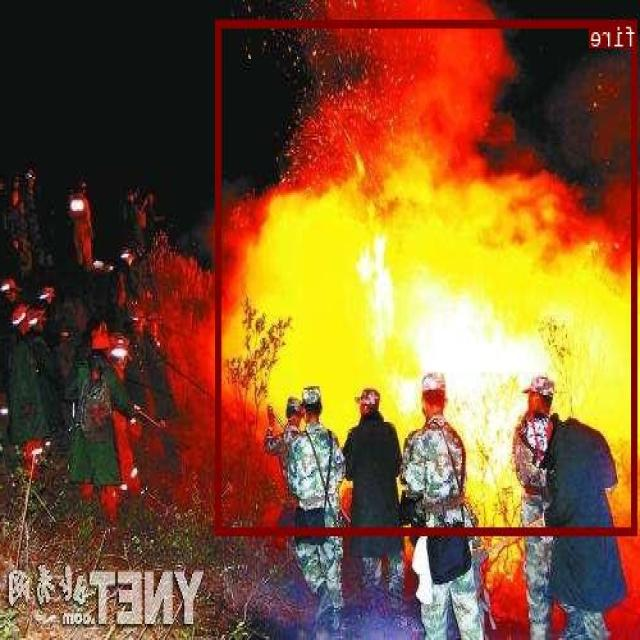fire: (217, 18, 638, 534)
